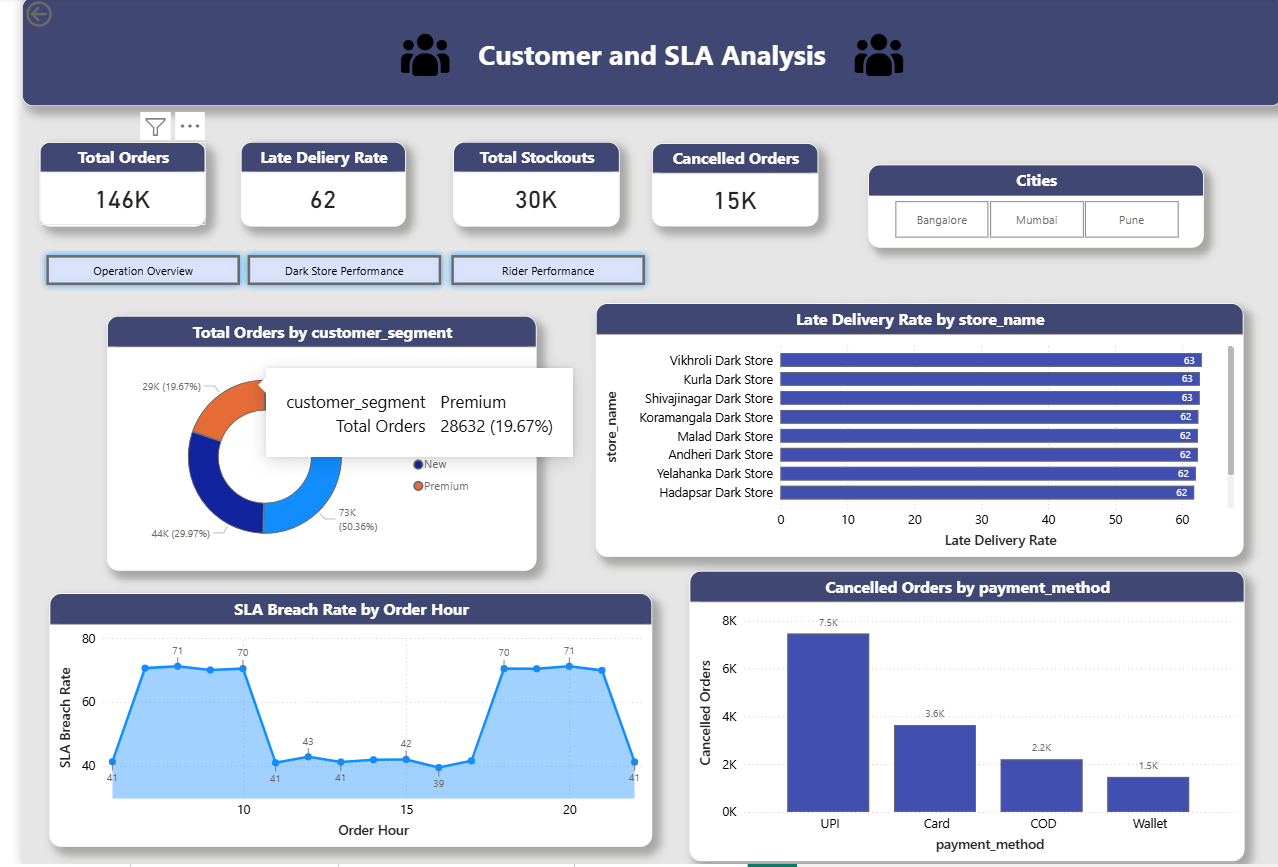

This screenshot's page, from the dashboard's own definition file:
{"tool":"powerbi","page":{"name":"Customer and SLA Analysis","canvas":[1479,1019],"ordinal":2},"visuals":[{"type":"textbox","box":[0,0,1478.6,128],"z":0},{"type":"card","title":"Total Orders","fields":{"Values":["quickcommerce fact_orders.Total Orders"]},"box":[20.8,169.6,195.2,99.2],"z":1000},{"type":"card","title":"Late Deliery Rate","fields":{"Values":["quickcommerce fact_orders.Late Delivery Rate"]},"box":[256,169.6,193.6,99.2],"z":2000},{"type":"actionButton","box":[0,0,100,40],"z":3000},{"type":"card","title":"Total Stockouts","fields":{"Values":["quickcommerce fact_orders.Total Stockouts"]},"box":[505.7,169.6,195.2,99.2],"z":4000},{"type":"slicer","title":"Cities","fields":{"Values":["quickcommerce dim_dark_stores.city"]},"box":[992.5,196,393.5,98],"z":5000},{"type":"clusteredBarChart","fields":{"Category":["quickcommerce dim_dark_stores.store_name"],"Y":["quickcommerce fact_orders.Late Delivery Rate"]},"box":[673.7,360,760.1,297.6],"z":6000},{"type":"columnChart","fields":{"Category":["quickcommerce fact_orders.payment_method"],"Y":["quickcommerce fact_orders.Cancelled Orders"]},"box":[782.5,673.7,651.3,340.8],"z":7000},{"type":"card","title":"Cancelled Orders","fields":{"Values":["quickcommerce fact_orders.Cancelled Orders"]},"box":[739.3,171.2,195.2,97.6],"z":8000},{"type":"donutChart","fields":{"Category":["quickcommerce dim_customers.customer_segment"],"Y":["quickcommerce fact_orders.Total Orders"]},"box":[99.2,374.4,504.1,299.2],"z":9000},{"type":"lineChart","fields":{"Y":["quickcommerce fact_orders.SLA Breach Rate"],"Category":["quickcommerce fact_orders.Order Hour"]},"box":[32,699.3,707.3,297.6],"z":10000},{"type":"actionButton","title":"Store PerFormance","box":[20.8,294.4,243.2,51.2],"z":11000},{"type":"actionButton","title":"Store PerFormance","box":[256,294.4,243.2,51.2],"z":12000},{"type":"actionButton","title":"Store PerFormance","box":[496.1,294.4,243.2,51.2],"z":13000},{"type":"image","box":[423.5,39.5,98,56.9],"z":13001},{"type":"image","box":[956.1,39.5,98,56.9],"z":13002}]}

Visuals, with their boxes in screenshot pixels (x1, y1, x2, y2), scaled from the page's 1479x1019 canvas onto the 1278x867 screenshot:
textbox: left=0, top=0, right=1277, bottom=109
"Total Orders" card: left=18, top=144, right=187, bottom=229
"Late Deliery Rate" card: left=221, top=144, right=388, bottom=229
actionButton: left=0, top=0, right=86, bottom=34
"Total Stockouts" card: left=437, top=144, right=606, bottom=229
"Cities" slicer: left=858, top=167, right=1198, bottom=250
clusteredBarChart - quickcommerce dim_dark_stores.store_name x quickcommerce fact_orders.Late Delivery Rate: left=582, top=306, right=1239, bottom=560
columnChart - quickcommerce fact_orders.payment_method x quickcommerce fact_orders.Cancelled Orders: left=676, top=573, right=1239, bottom=863
"Cancelled Orders" card: left=639, top=146, right=807, bottom=229
donutChart - quickcommerce dim_customers.customer_segment x quickcommerce fact_orders.Total Orders: left=86, top=319, right=521, bottom=573
lineChart - quickcommerce fact_orders.SLA Breach Rate x quickcommerce fact_orders.Order Hour: left=28, top=595, right=639, bottom=848
"Store PerFormance" actionButton: left=18, top=250, right=228, bottom=294
"Store PerFormance" actionButton: left=221, top=250, right=431, bottom=294
"Store PerFormance" actionButton: left=429, top=250, right=639, bottom=294
image: left=366, top=34, right=451, bottom=82
image: left=826, top=34, right=911, bottom=82
